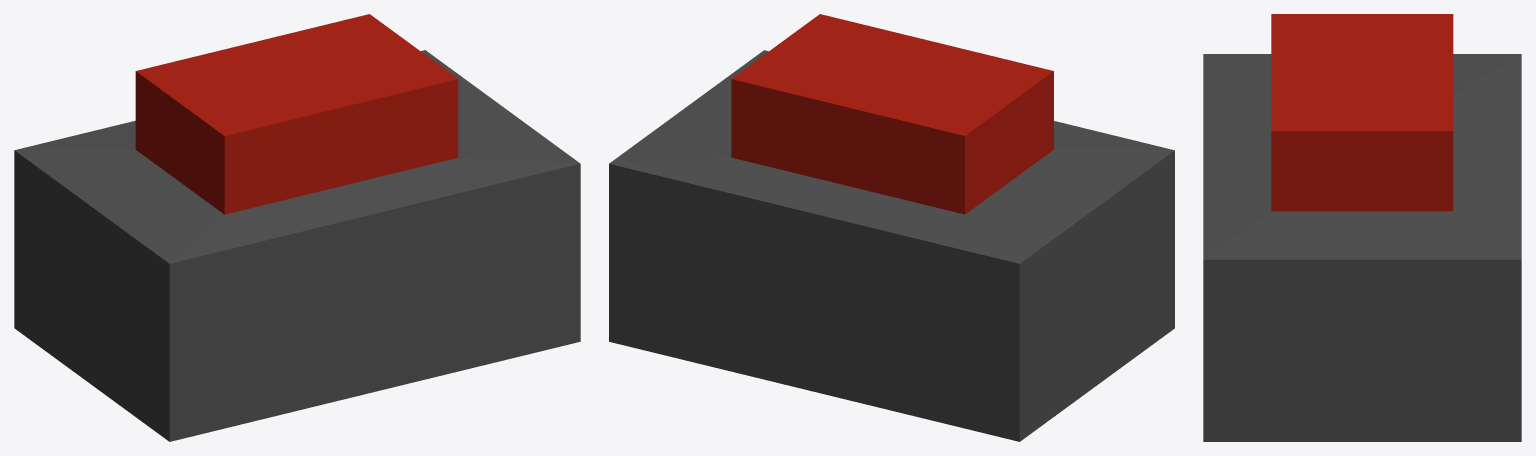
File: button.glb
3 renders of one model, left to right at view 1: azimuth 30°, elevation 25°; view 2: azimuth 150°, elevation 25°; view 3: azimuth 270°, elevation 25°, orthographic. The views are drawn at different scales.
Visible parts, largest first — view 1: Cube, Cube.001; view 2: Cube, Cube.001; view 3: Cube, Cube.001.
Boxes of the visible parts, x1,y1,x2,y2 form: Cube: [14, 50, 580, 441]; Cube.001: [135, 14, 458, 214]; Cube: [609, 50, 1174, 441]; Cube.001: [731, 14, 1053, 214]; Cube: [1203, 54, 1521, 441]; Cube.001: [1271, 14, 1453, 211].
Bounding box in the file's own units: 1.3 × 0.7891 × 0.8535.
Materials: 2 (2 with a texture image).
